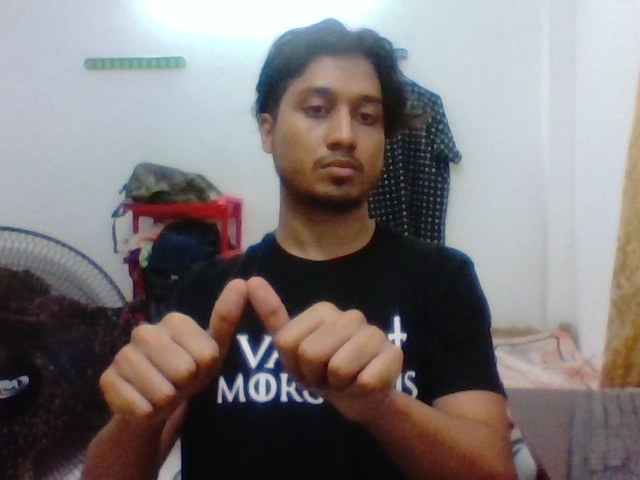A: (90, 263, 405, 432)
